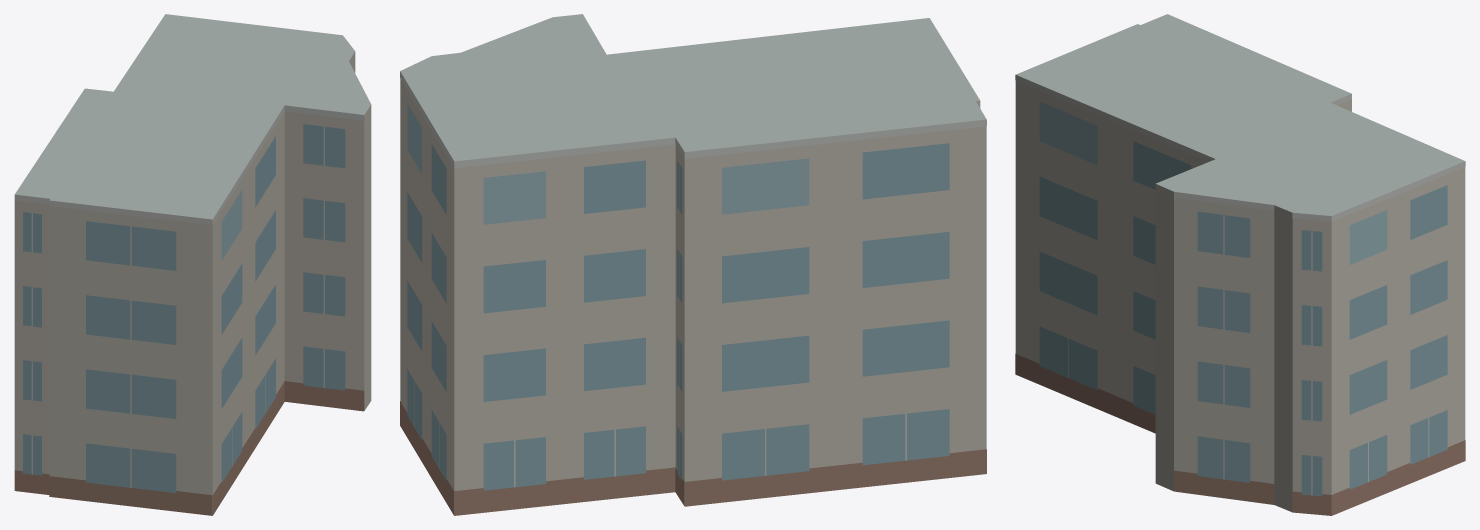
The model's file is survey-upis-32803933.glb.
3 renders of one model, left to right at view 1: azimuth 30°, elevation 25°; view 2: azimuth 150°, elevation 25°; view 3: azimuth 270°, elevation 25°, orthographic. The views are drawn at different scales.
Visible parts, largest first — view 1: survey-upis-32803933.tmp; view 2: survey-upis-32803933.tmp; view 3: survey-upis-32803933.tmp.
Boxes of the visible parts, left/top/right/bottom form: survey-upis-32803933.tmp: left=14, top=14, right=371, bottom=515; survey-upis-32803933.tmp: left=400, top=14, right=986, bottom=515; survey-upis-32803933.tmp: left=1015, top=14, right=1465, bottom=515.
Bounding box in the file's own units: 18.44 × 12.75 × 17.35.
